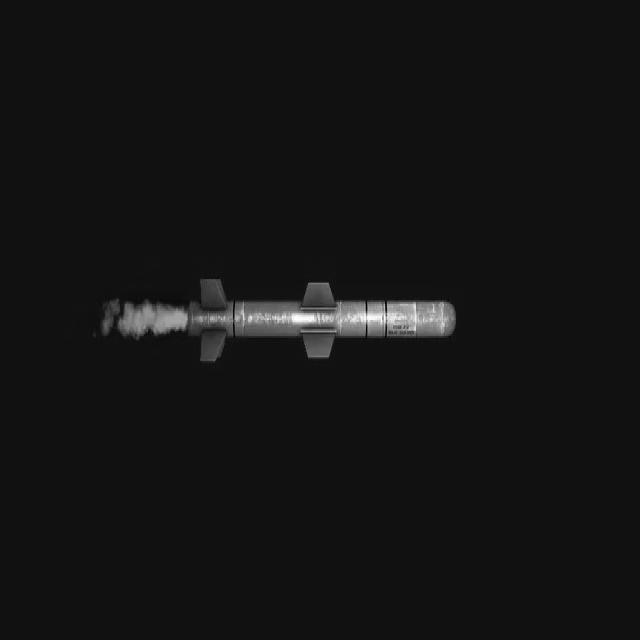missile: (186, 268, 468, 381)
